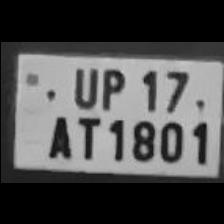0: (155, 116, 184, 162)
1: (131, 64, 159, 112), (186, 116, 211, 164), (101, 114, 126, 160)
7: (158, 63, 190, 113)
8: (126, 114, 156, 160)
A: (40, 109, 72, 159)
P: (96, 62, 128, 110)
T: (72, 111, 100, 159)
U: (66, 61, 100, 106)
